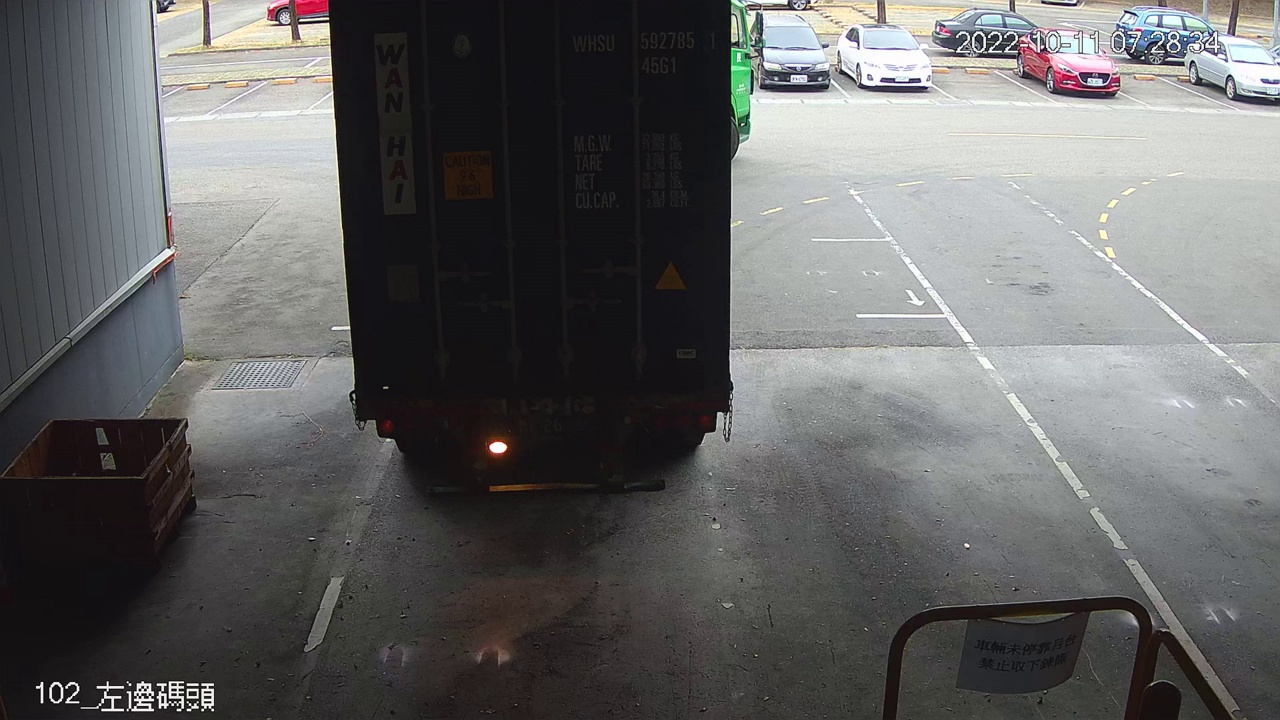container: (567, 26, 725, 84)
